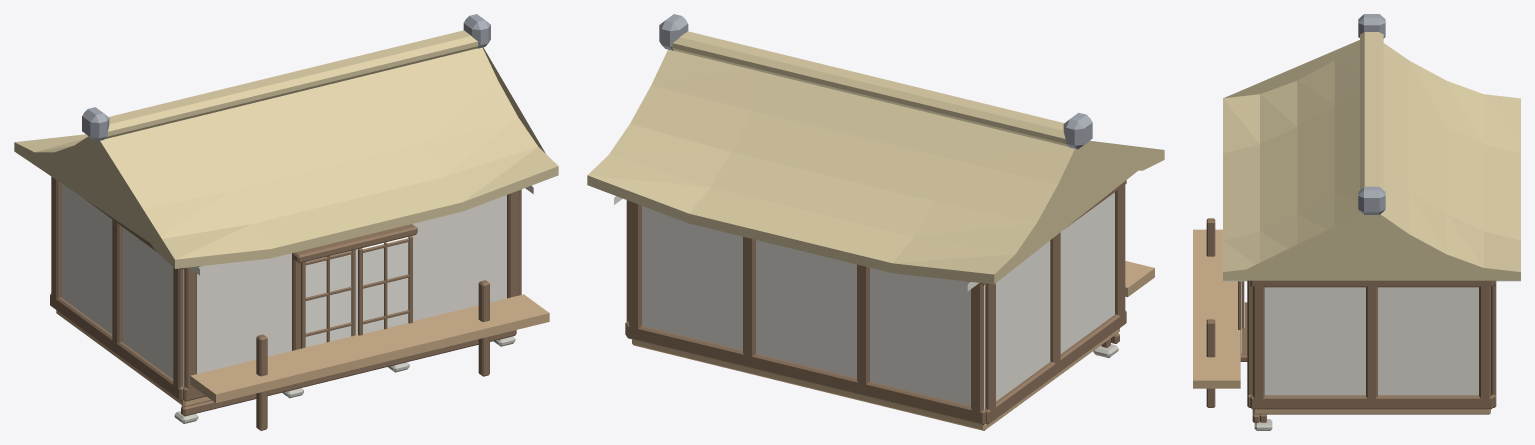
The model's file is feudal-japan-castle-town-town-stable-8525063e__26277.glb.
The picture shows the model from 3 angles, left to right: view 1: azimuth 30°, elevation 25°; view 2: azimuth 150°, elevation 25°; view 3: azimuth 270°, elevation 25°; orthographic projection. The views are drawn at different scales.
Visible parts, largest first — view 1: town-stable; view 2: town-stable; view 3: town-stable.
Boxes of the visible parts, bbox=[...] form: town-stable: bbox=[14, 14, 558, 430]; town-stable: bbox=[587, 14, 1164, 430]; town-stable: bbox=[1193, 14, 1520, 430].
Size of the model in its own units: 7.2 by 4.71 by 5.5.
